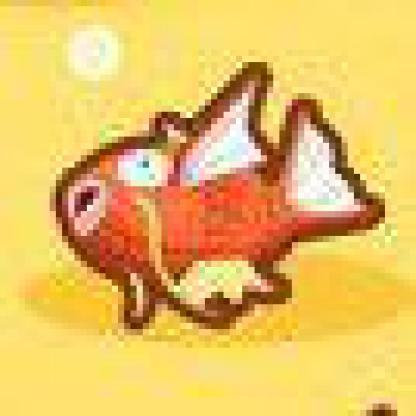Magikarp: (1, 1, 411, 411)
